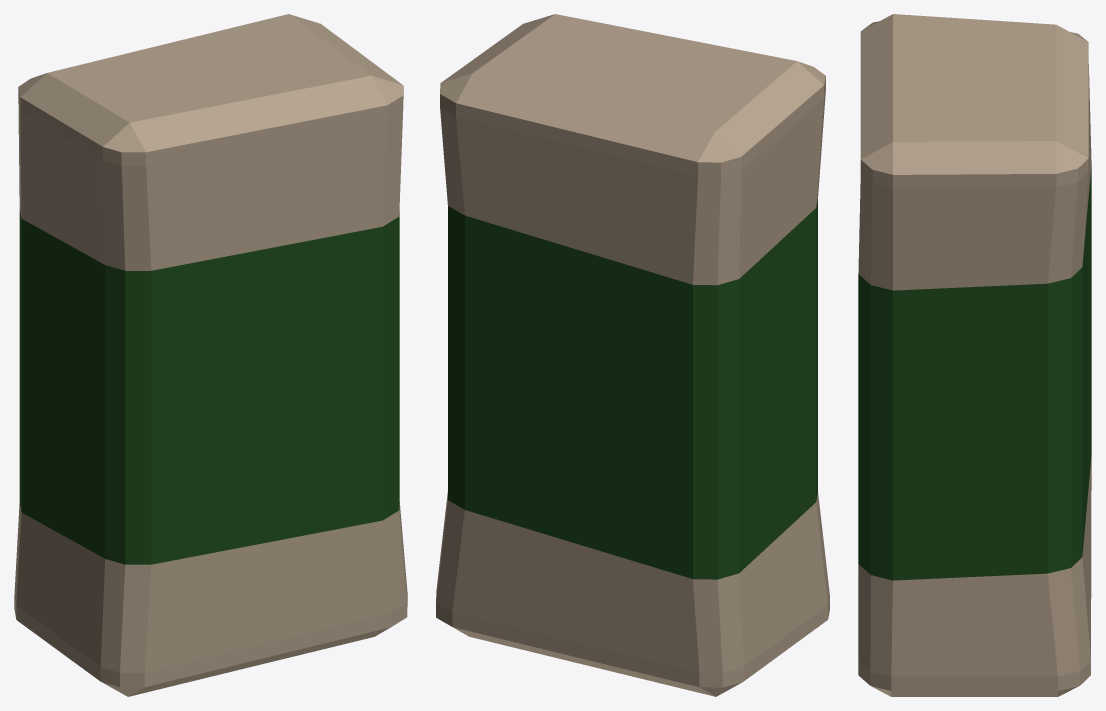
Rendered from flour_closed.fbx.
3 renders of one model, left to right at view 1: azimuth 30°, elevation 25°; view 2: azimuth 150°, elevation 25°; view 3: azimuth 270°, elevation 25°, orthographic.
Visible parts, largest first — view 1: Box018; view 2: Box018; view 3: Box018.
Boxes of the visible parts, x1,y1,x2,y2 form: Box018: (14, 14, 407, 696); Box018: (436, 14, 829, 696); Box018: (858, 14, 1091, 696).
Size of the model in its own units: 18.73 by 33.43 by 12.5.
